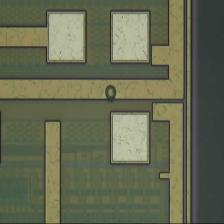PARTICLE: (105, 84, 118, 104)
